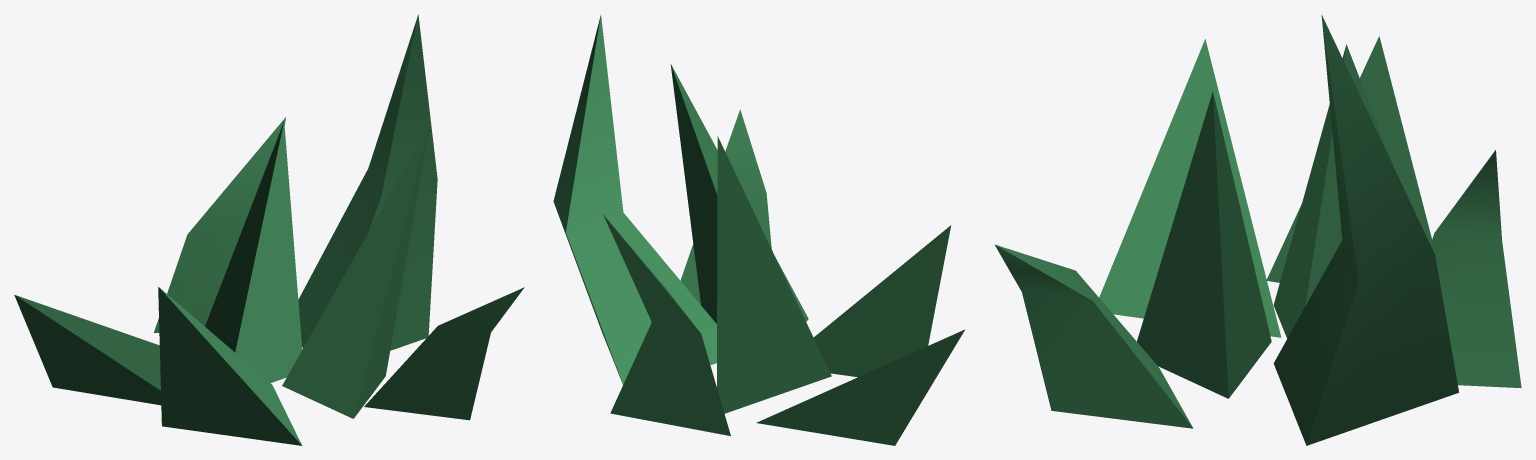
The model's file is grass2.fbx.
3 renders of one model, left to right at view 1: azimuth 30°, elevation 25°; view 2: azimuth 150°, elevation 25°; view 3: azimuth 270°, elevation 25°, orthographic. The views are drawn at different scales.
Parts seen in each view (by area): view 1: pPyramid10; view 2: pPyramid10; view 3: pPyramid10.
Boxes of the visible parts, x1=… form: pPyramid10: x1=14, y1=14, x2=524, y2=445; pPyramid10: x1=553, y1=15, x2=965, y2=445; pPyramid10: x1=994, y1=15, x2=1521, y2=445.
Bounding box in the file's own units: 3.24 × 2.39 × 2.66.
